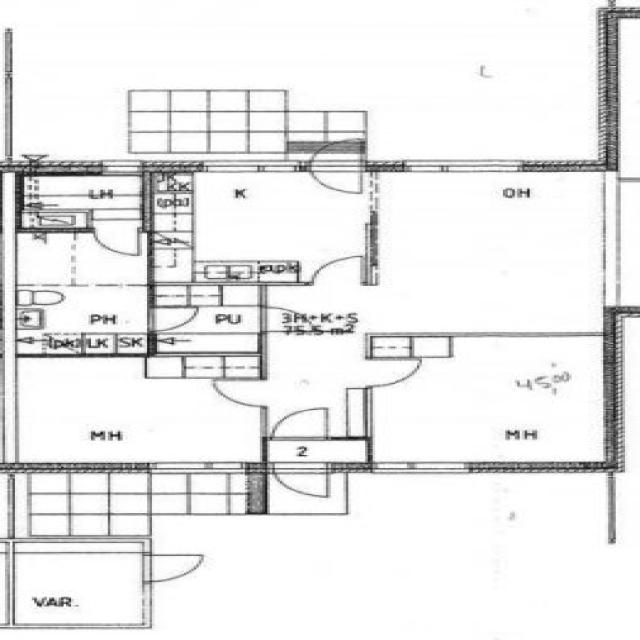door: (156, 170, 374, 292), (147, 304, 258, 352), (302, 137, 370, 200), (135, 549, 213, 583), (268, 463, 336, 501), (270, 405, 333, 441), (87, 223, 148, 259), (358, 356, 426, 388), (308, 252, 371, 286), (202, 377, 268, 409), (142, 304, 202, 334), (255, 304, 315, 333)
window: (389, 156, 534, 177), (132, 458, 253, 478), (365, 458, 478, 478), (186, 158, 304, 177), (91, 158, 148, 177)
zone: (370, 168, 617, 338), (366, 334, 615, 468), (0, 351, 262, 469), (150, 167, 373, 286), (9, 542, 147, 628), (11, 285, 155, 354), (14, 172, 152, 230), (150, 302, 262, 354), (368, 336, 412, 358)
